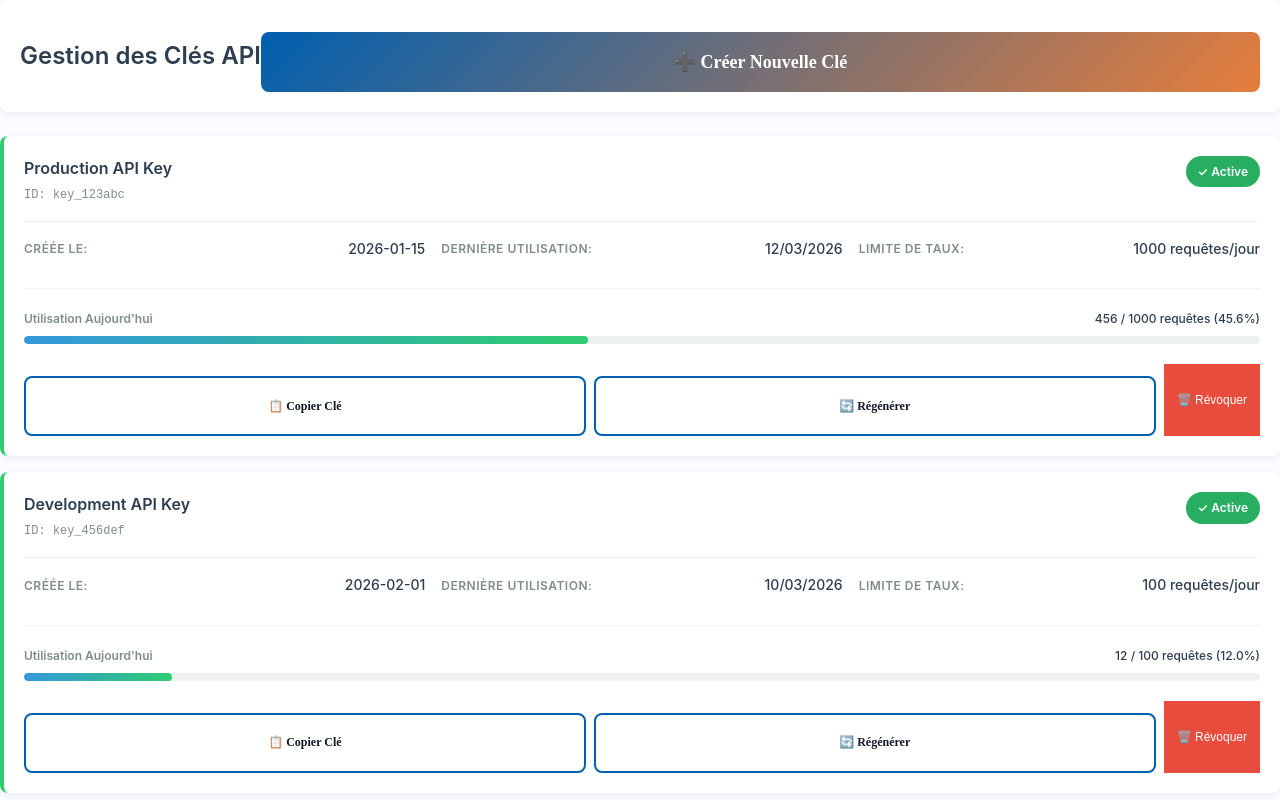
Test: APIKeyManagement Module › Create Key Form › should toggle create form visibility
Click the button "➕ Créer Nouvelle Clé". click: point(760, 62)
box: [261,32,1260,92]
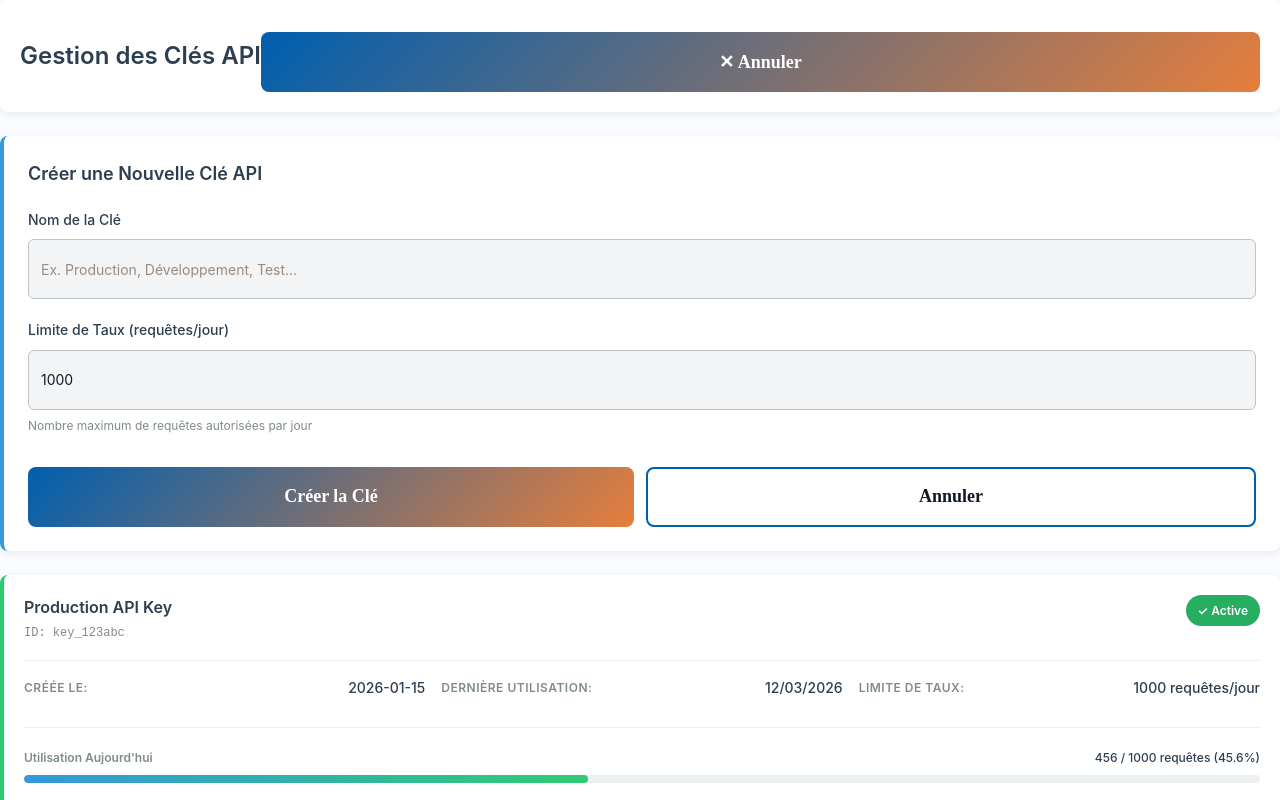
Result: the heading "Créer une Nouvelle Clé API" is shown at [28,163,262,184]
Result: the field with placeholder "Ex. Production, Développement, Test…" is shown at [28,239,1256,299]
Click the button "✕ Annuler". click: point(760, 62)
box: [261,32,1260,92]
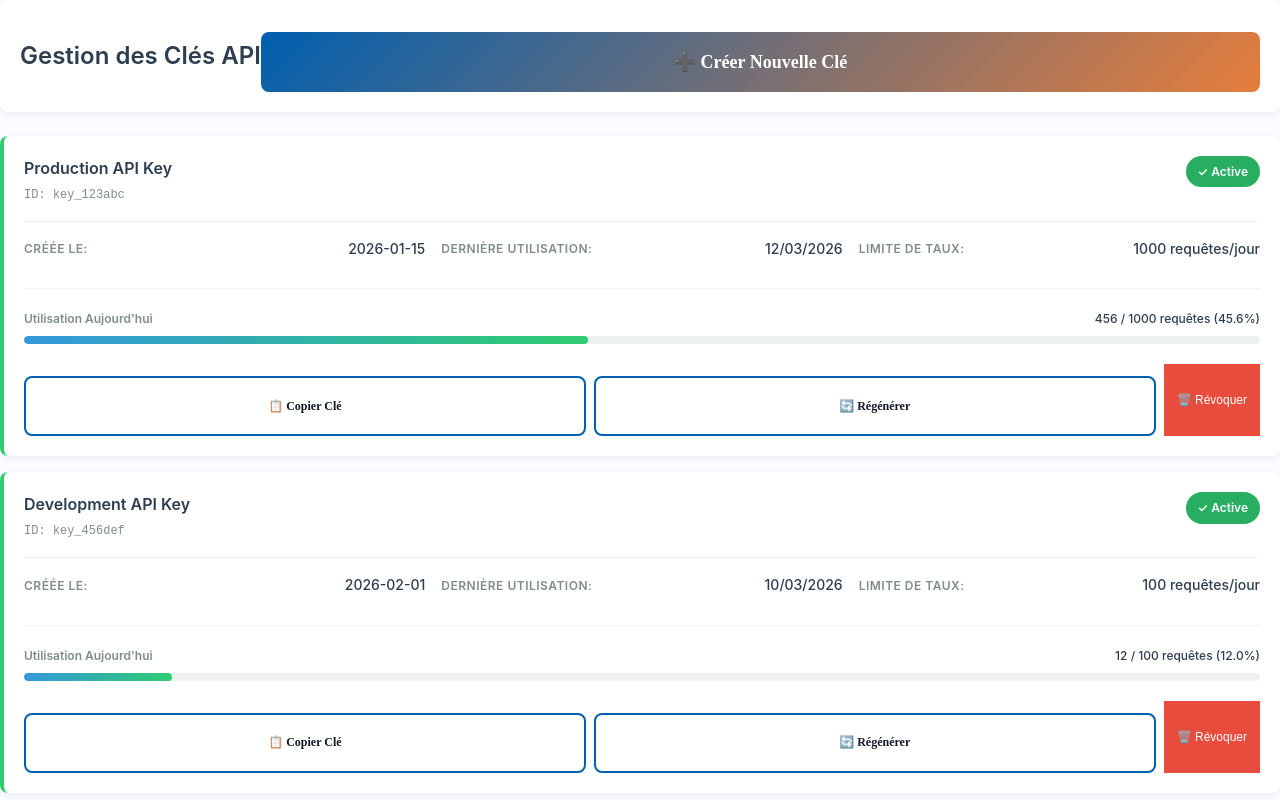
Result: the heading "Créer une Nouvelle Clé API" is gone
